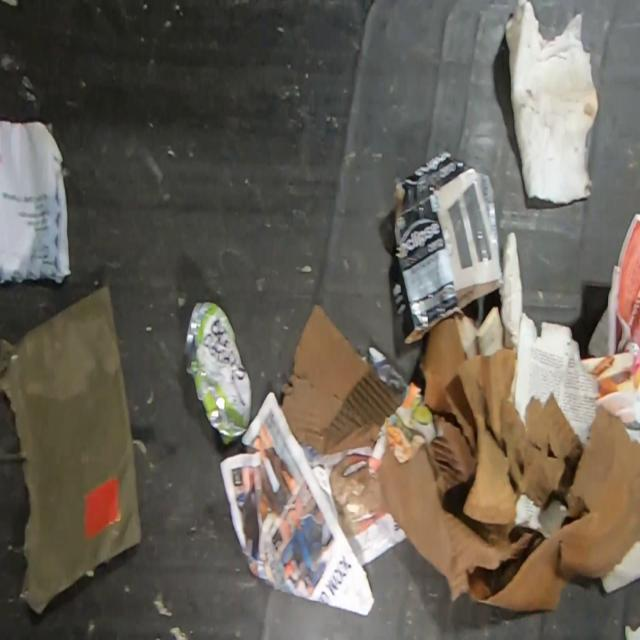cardboard: (458, 345, 586, 550), (392, 149, 503, 347), (279, 302, 403, 457)
metal: (182, 302, 253, 447)
soft_plastic: (0, 284, 143, 617)
